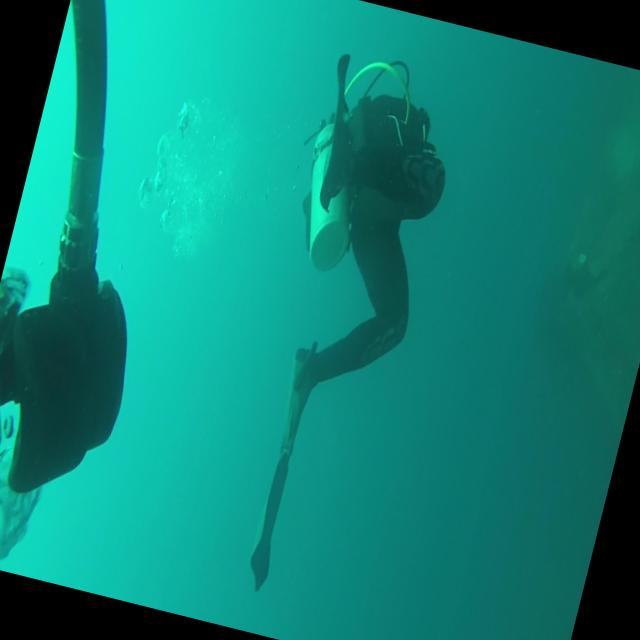human: (198, 41, 472, 612)
